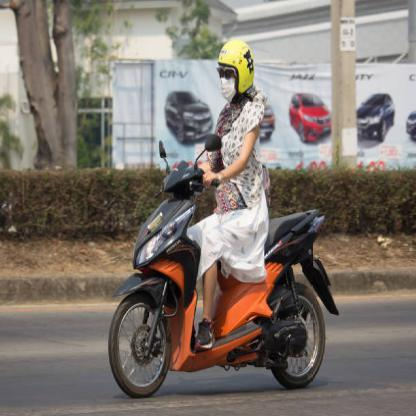Motorcycle: (106, 150, 334, 397)
